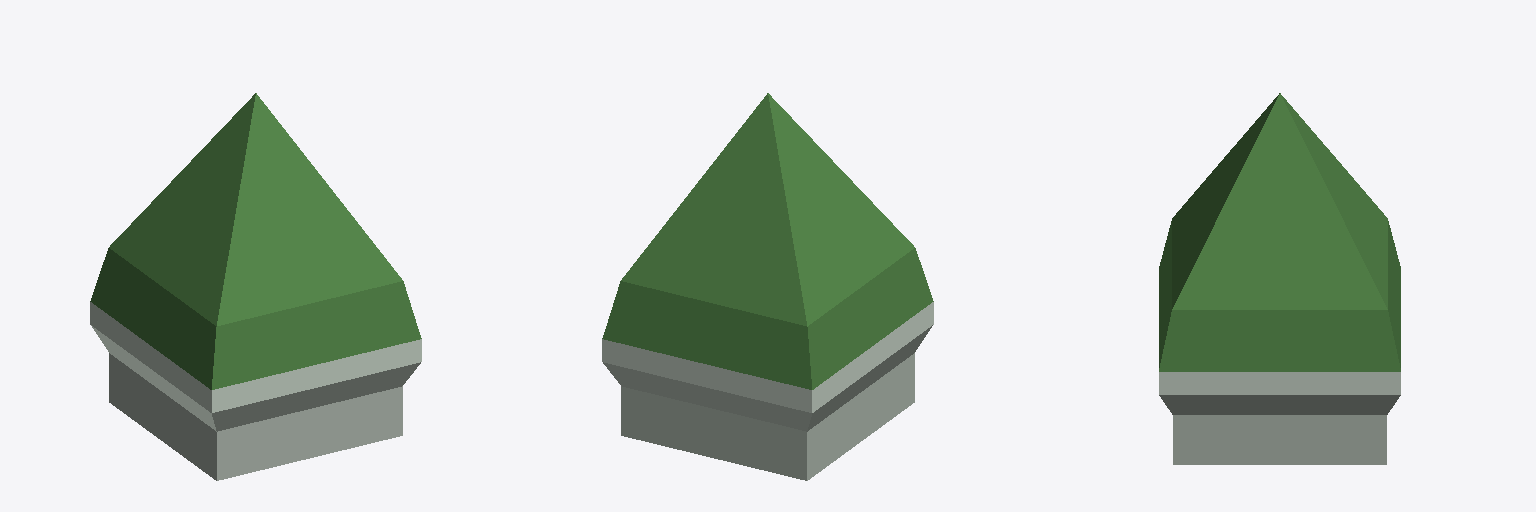
The model's file is towerDefense_053.obj.
3 views of the same model, side by side, from view 1: azimuth 30°, elevation 25°; view 2: azimuth 150°, elevation 25°; view 3: azimuth 270°, elevation 25° (orthographic).
Visible parts, largest first — view 1: Mesh1 Group1 Model; view 2: Mesh1 Group1 Model; view 3: Mesh1 Group1 Model.
Boxes of the visible parts, box(x1,y1,x2,y2) form: Mesh1 Group1 Model: box(90, 93, 421, 480); Mesh1 Group1 Model: box(602, 93, 933, 480); Mesh1 Group1 Model: box(1159, 93, 1400, 464).
Bounding box in the file's own units: 0.6668 × 0.99 × 0.6668.